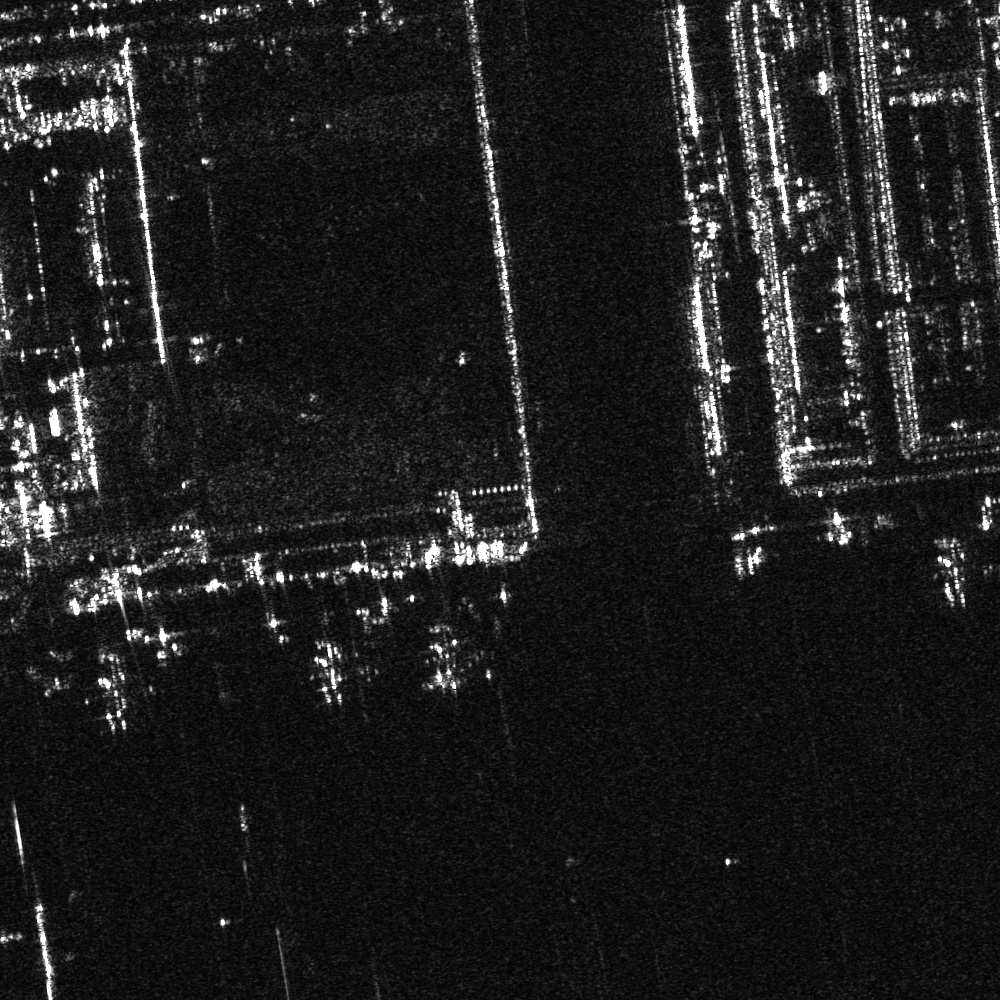Boeing787: (84, 651, 156, 734), (916, 535, 994, 610), (296, 632, 365, 709), (418, 626, 481, 694)
